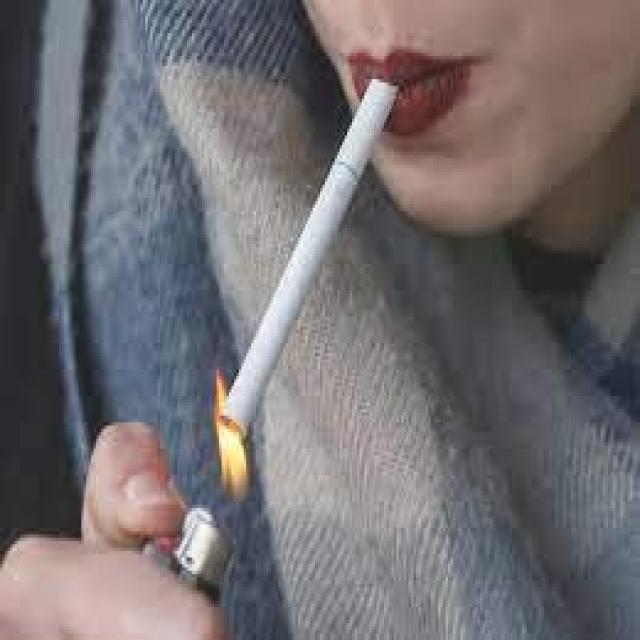smoke: (216, 73, 394, 442)
